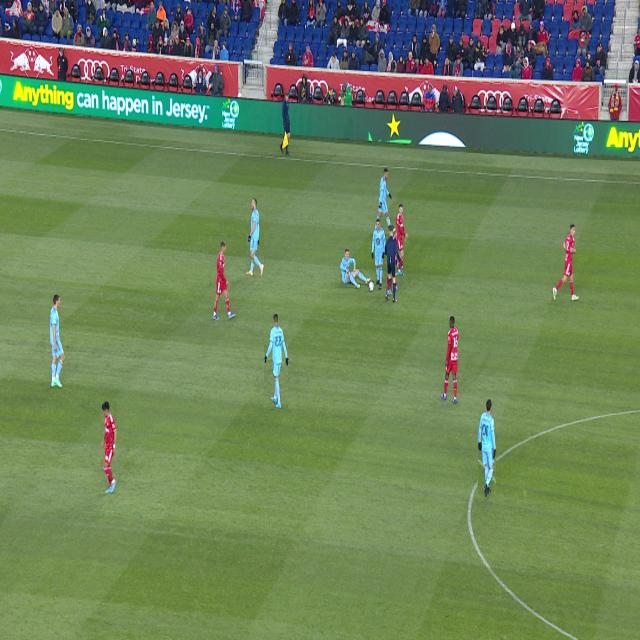football: (369, 281, 374, 291)
player: (265, 315, 288, 409), (552, 224, 579, 301), (213, 242, 236, 320), (478, 399, 496, 497), (441, 316, 459, 404), (101, 401, 117, 494), (246, 199, 264, 277), (50, 295, 65, 388), (340, 249, 371, 288), (372, 218, 386, 289), (377, 168, 391, 229), (396, 204, 408, 261), (396, 260, 403, 276), (388, 272, 391, 295), (395, 275, 398, 291), (393, 232, 396, 241), (395, 252, 397, 265), (386, 260, 388, 265)
referee: (385, 225, 402, 302)
